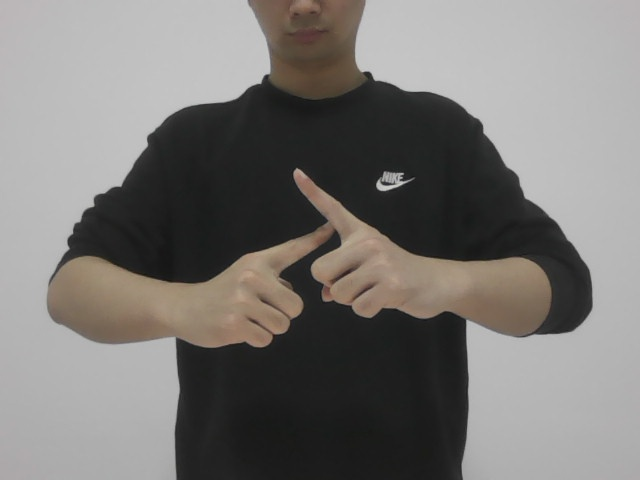peason: (207, 163, 416, 350)
